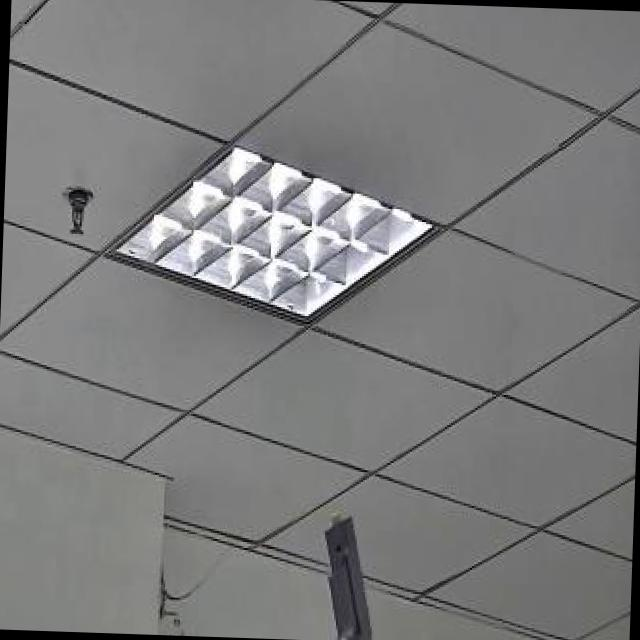Guns: (285, 495, 426, 640)
